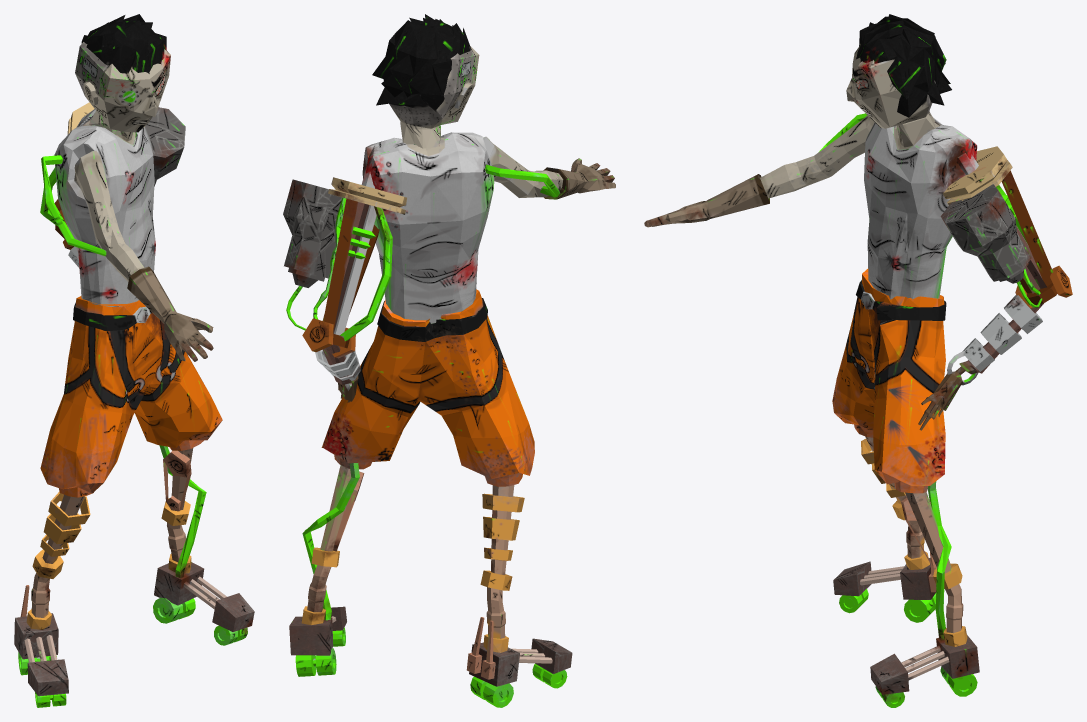
The model's file is CyborgFINALAnimation_000008.obj.
3 views of the same model, side by side, from view 1: azimuth 30°, elevation 25°; view 2: azimuth 150°, elevation 25°; view 3: azimuth 270°, elevation 25° (orthographic). The views are drawn at different scales.
Parts seen in each view (by area): view 1: CyborgMesh_Cube.002; view 2: CyborgMesh_Cube.002; view 3: CyborgMesh_Cube.002.
Boxes of the visible parts, x1=… form: CyborgMesh_Cube.002: x1=14, y1=14, x2=254, y2=707; CyborgMesh_Cube.002: x1=283, y1=14, x2=615, y2=707; CyborgMesh_Cube.002: x1=644, y1=14, x2=1072, y2=707.
Size of the model in its own units: 3.66 by 9.61 by 5.88.
